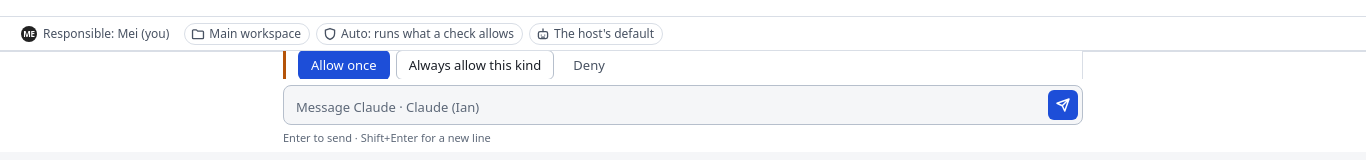
permission card: those who may answer › shows the command whole and allows it once
(page scrolled)
Click the button "Allow once" at (344, 65), box [298,50,390,80]
(page scrolled)
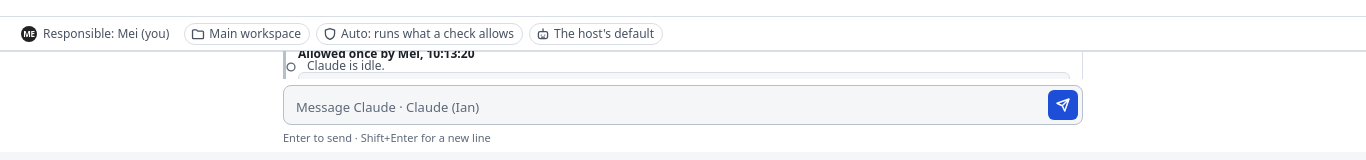
Expected: the element with id "conv-card-pr_1" shows "Allowed once by Mei,", [298,51,474,62]
Expected: the button "Allow once" is gone
